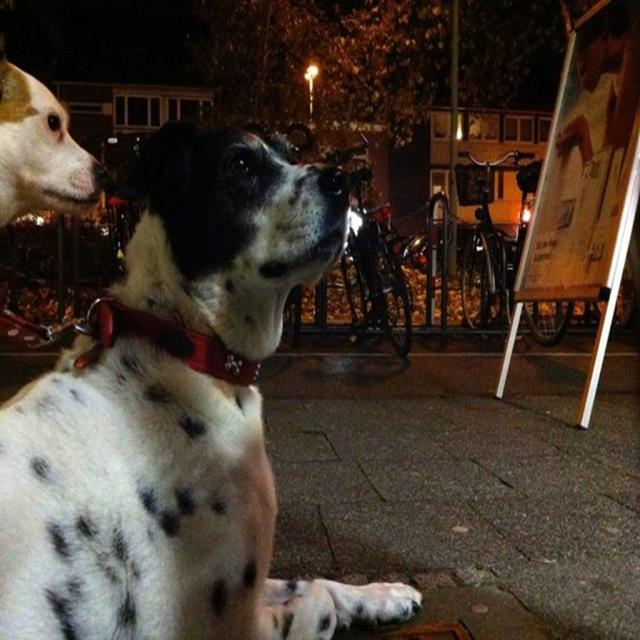Dog: (0, 117, 423, 639), (0, 34, 107, 227)
